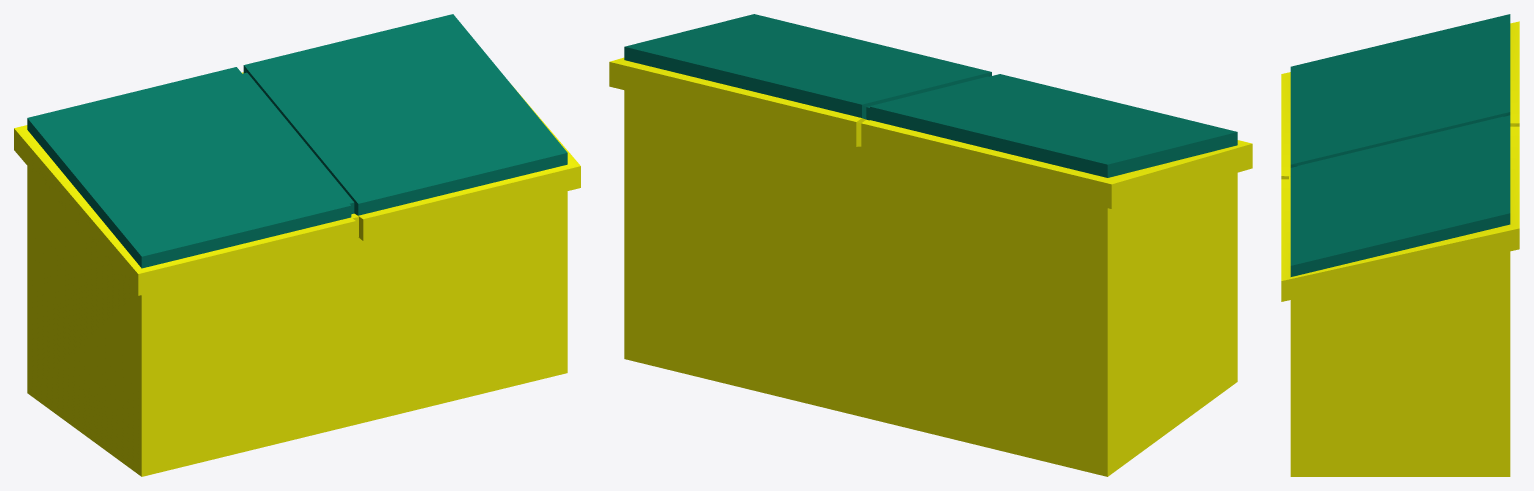
File: SM_poubelle.fbx
3 renders of one model, left to right at view 1: azimuth 30°, elevation 25°; view 2: azimuth 150°, elevation 25°; view 3: azimuth 270°, elevation 25°, orthographic. The views are drawn at different scales.
Visible parts, largest first — view 1: SM_poubelle; view 2: SM_poubelle; view 3: SM_poubelle.
Part boxes in pixels (left/top/right/bottom): SM_poubelle: left=14, top=14, right=580, bottom=476; SM_poubelle: left=609, top=14, right=1252, bottom=476; SM_poubelle: left=1281, top=14, right=1519, bottom=476.
Bounding box in the file's own units: 1.92 × 1.14 × 0.9319.
